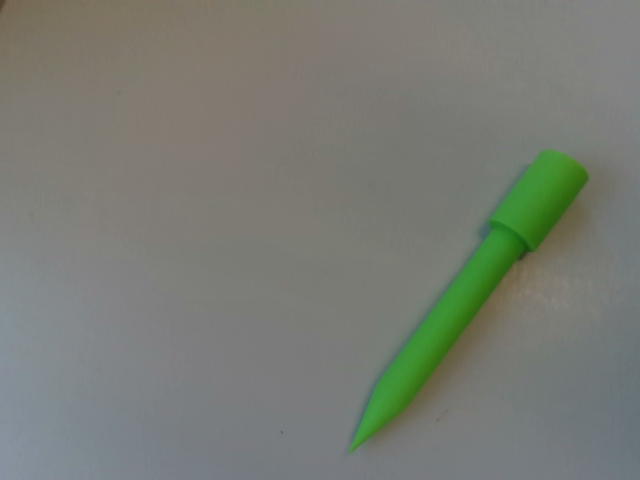Probe: (343, 142, 598, 461)
